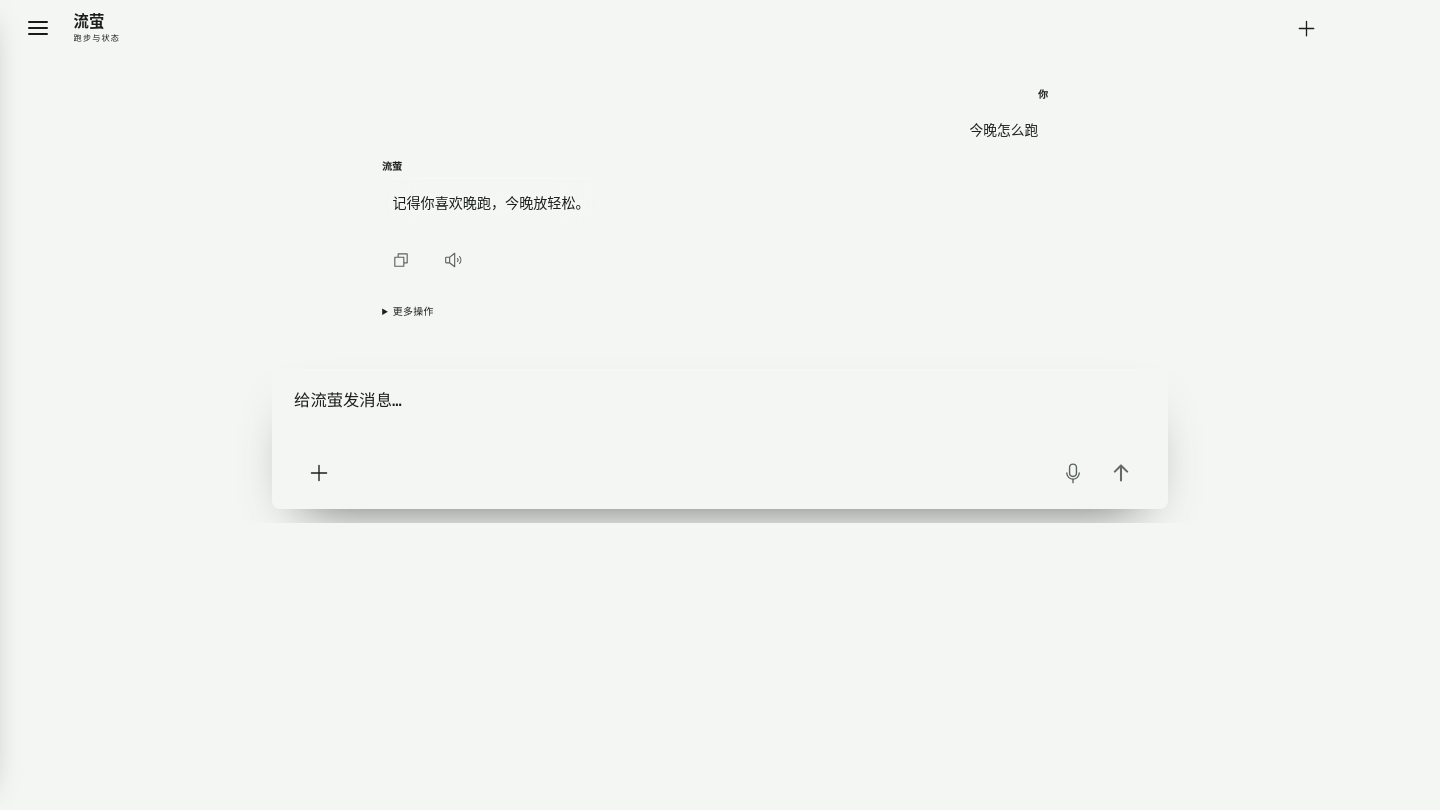
Scenario: 播放按钮在复制右侧，读取原生播放状态并停止，不发送聊天请求
Click the button named "播放回答". click: (453, 260)
box: [431,238,475,282]
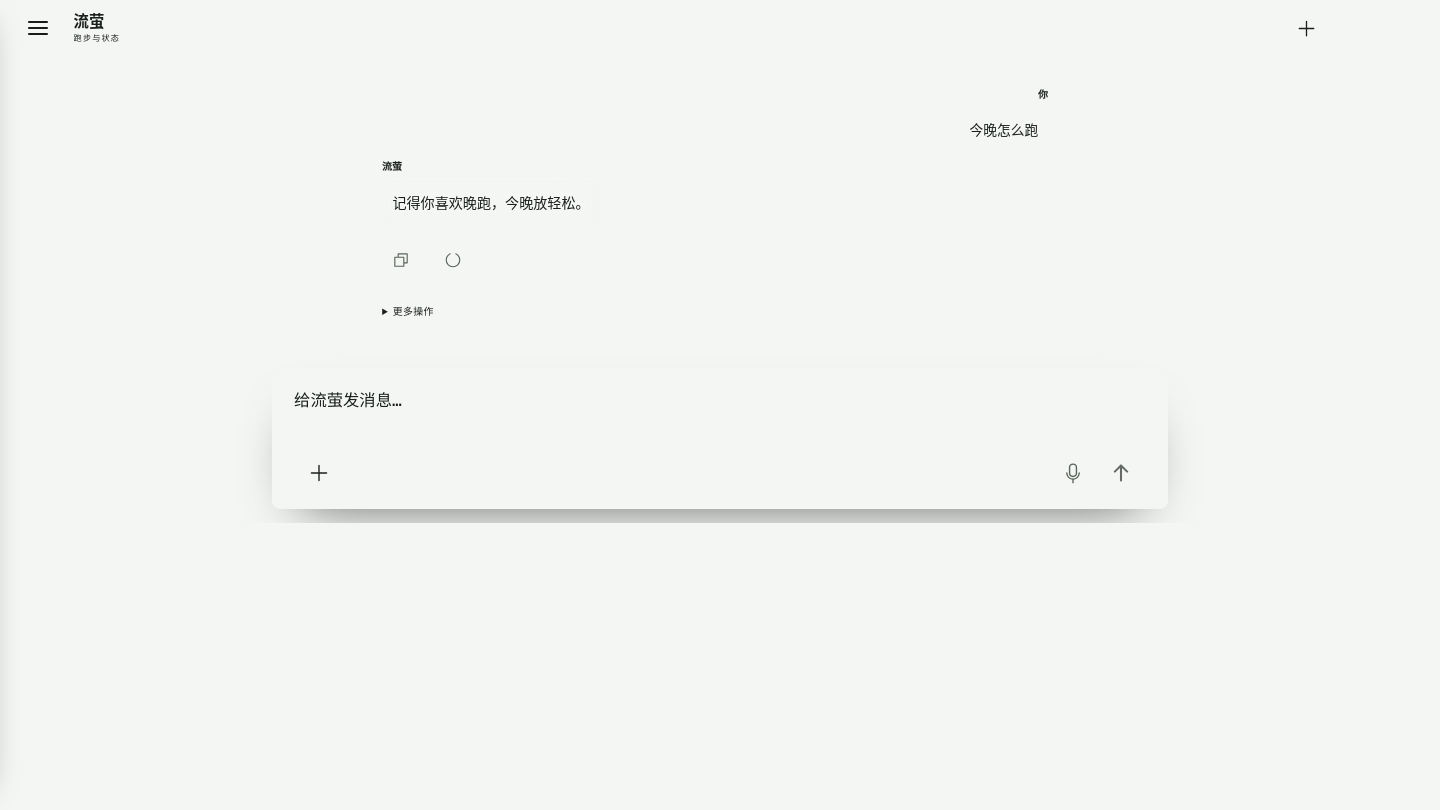
Click the button named "停止播放". click: (453, 260)
box: [431,238,475,282]
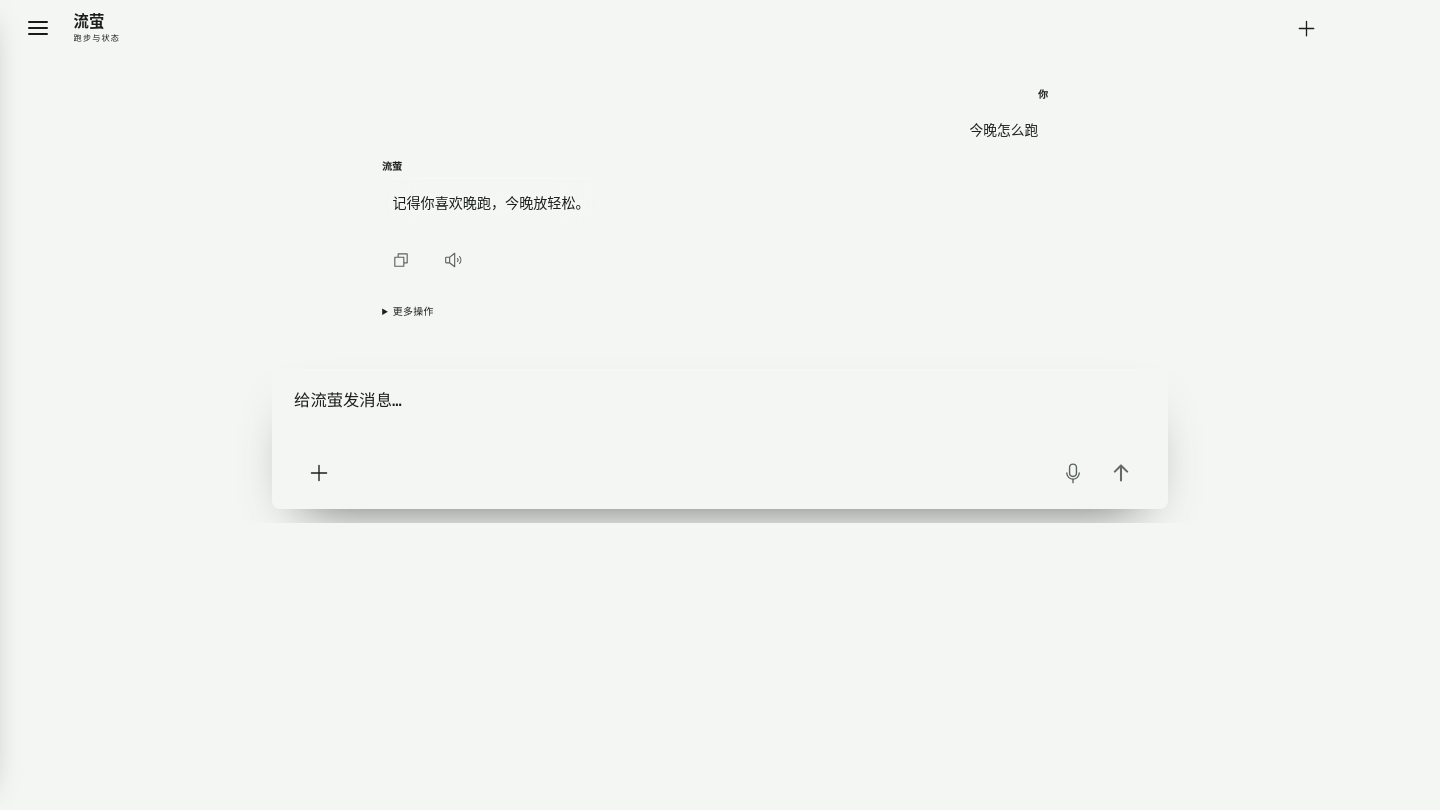
Check: the button named "播放回答" is shown, box [431,238,475,282]
